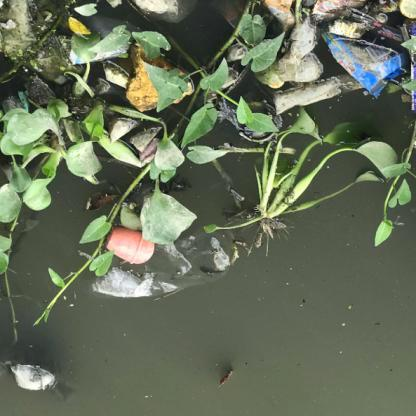Plastic: (102, 223, 164, 272)
Trash: (97, 222, 249, 309), (330, 25, 402, 95), (8, 360, 66, 399)
